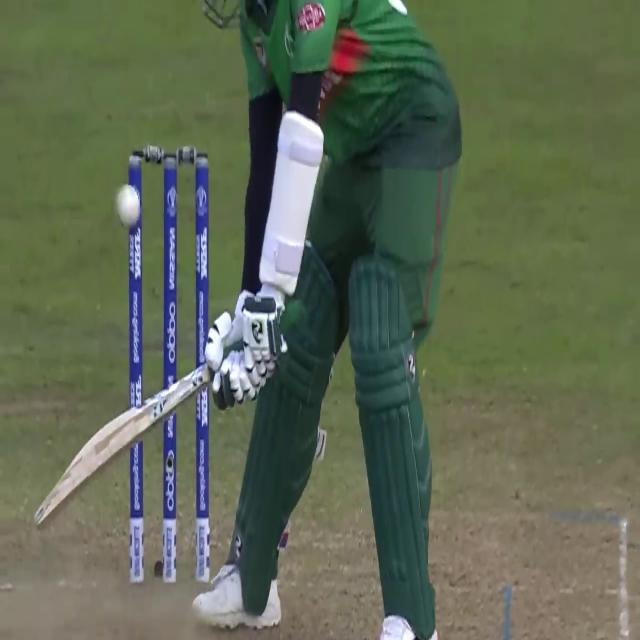ball: (110, 180, 142, 233)
